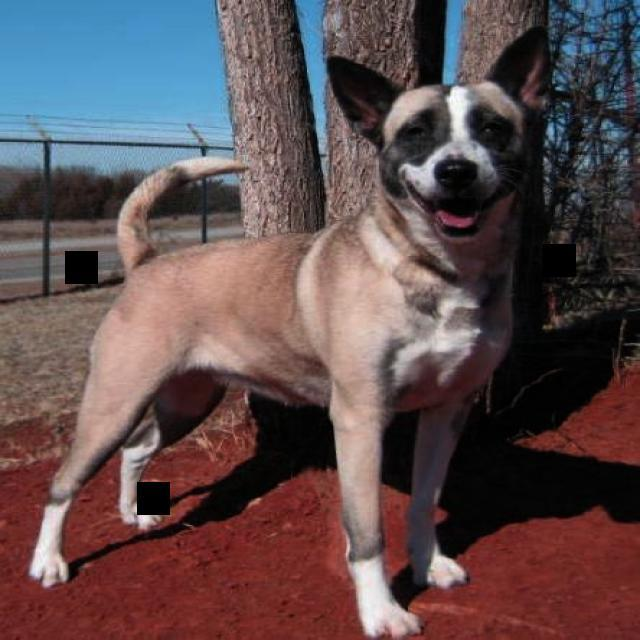adult_dog: (22, 30, 553, 631)
